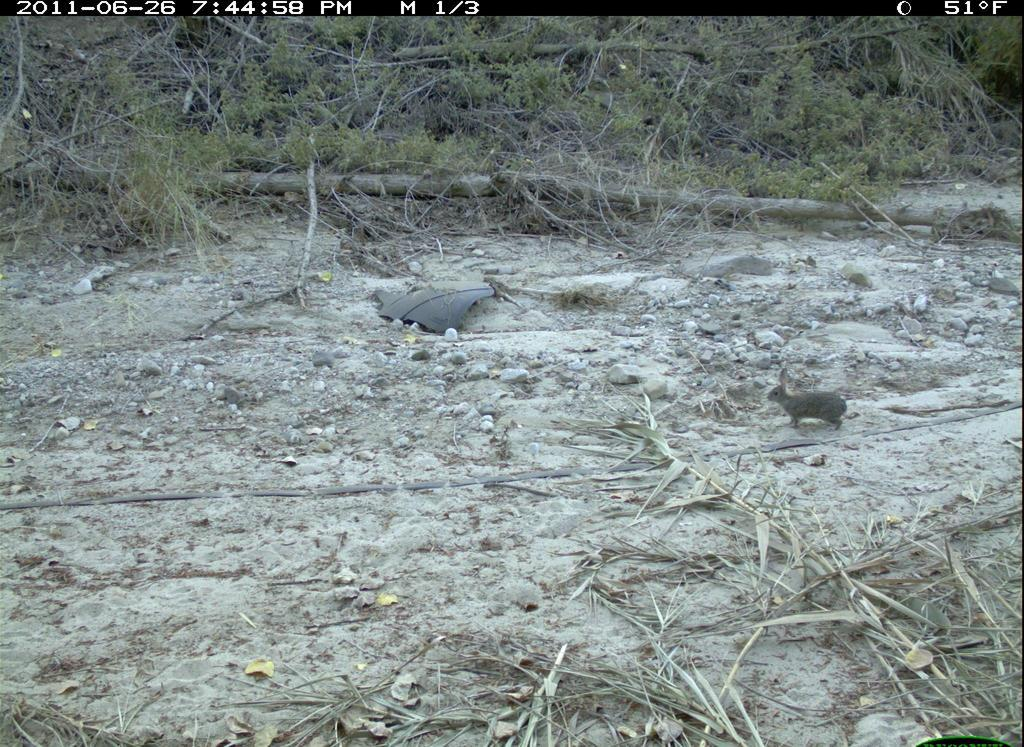rabbit: (761, 364, 859, 440)
